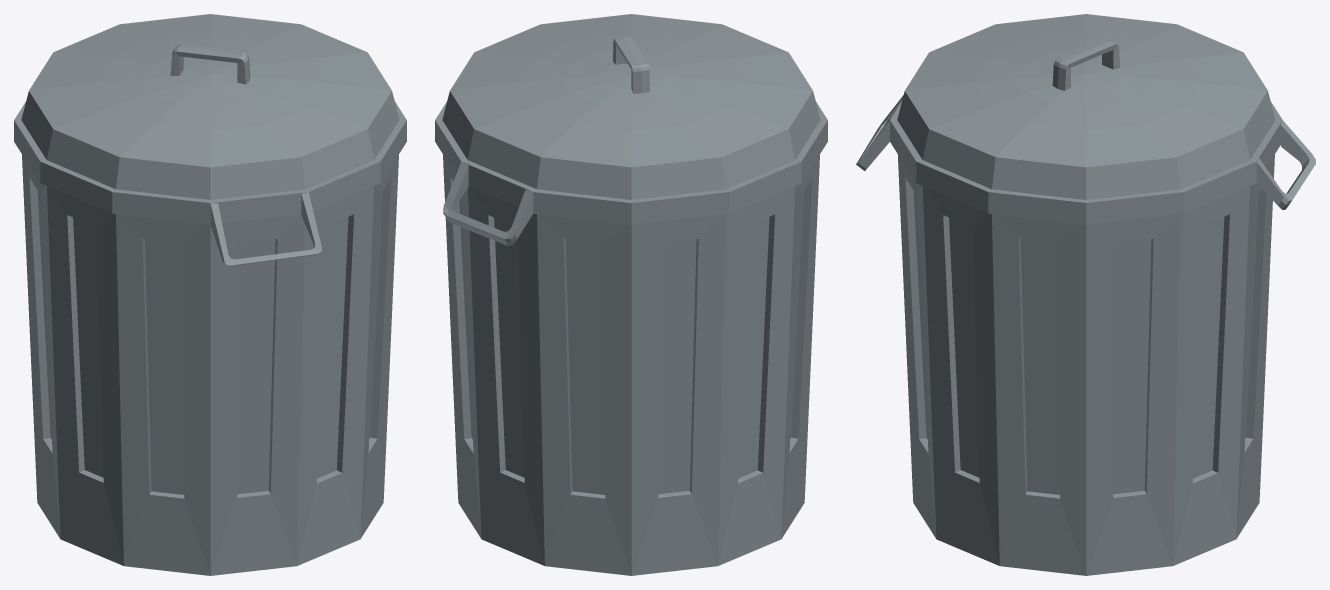
File: fangymulli.fbx
3 renders of one model, left to right at view 1: azimuth 30°, elevation 25°; view 2: azimuth 150°, elevation 25°; view 3: azimuth 270°, elevation 25°, orthographic.
Parts seen in each view (by area): view 1: Cylinder; view 2: Cylinder; view 3: Cylinder.
Boxes of the visible parts, bbox=[...] form: Cylinder: bbox=[14, 14, 406, 575]; Cylinder: bbox=[435, 14, 827, 575]; Cylinder: bbox=[856, 14, 1315, 575].
Size of the model in its own units: 2.27 by 2.88 by 2.66.
Materials: 1 (1 with a texture image).
